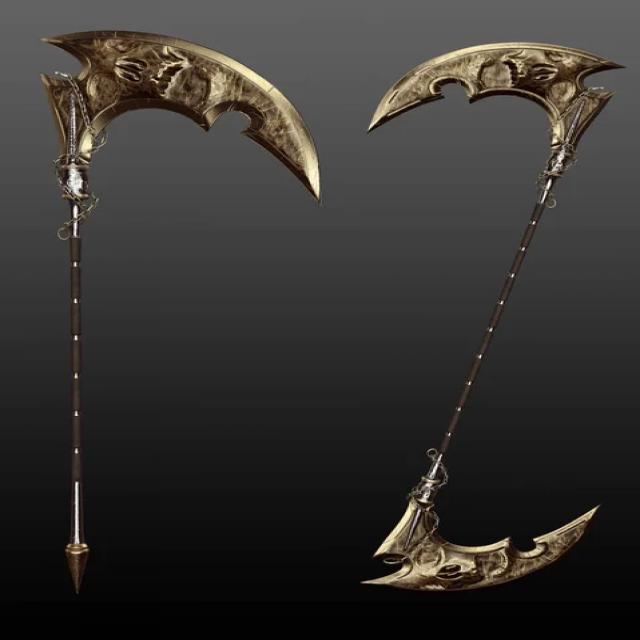sickle: (33, 28, 330, 595), (362, 40, 625, 595)
